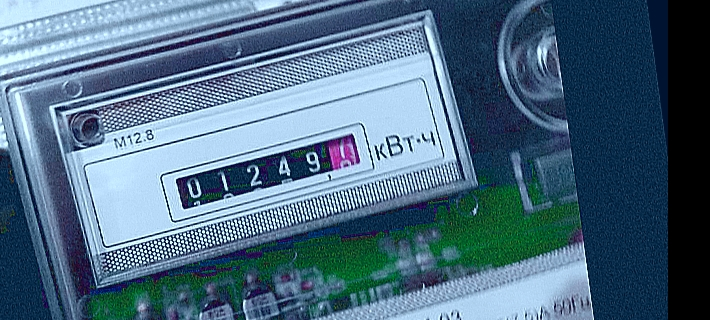0: (180, 172, 203, 200)
1: (212, 167, 230, 194)
2: (241, 160, 265, 189)
4: (272, 150, 294, 179)
7: (331, 135, 349, 160)
9: (301, 146, 322, 173)
screen: (149, 122, 390, 227)
